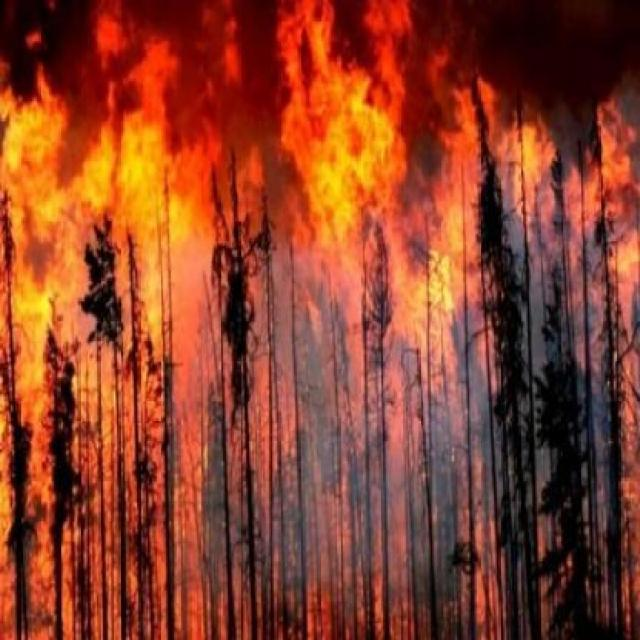Fire: (0, 3, 510, 297)
